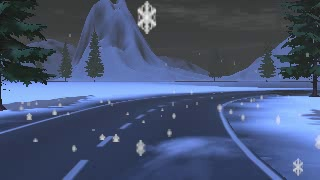Lane: (0, 90, 305, 179)
